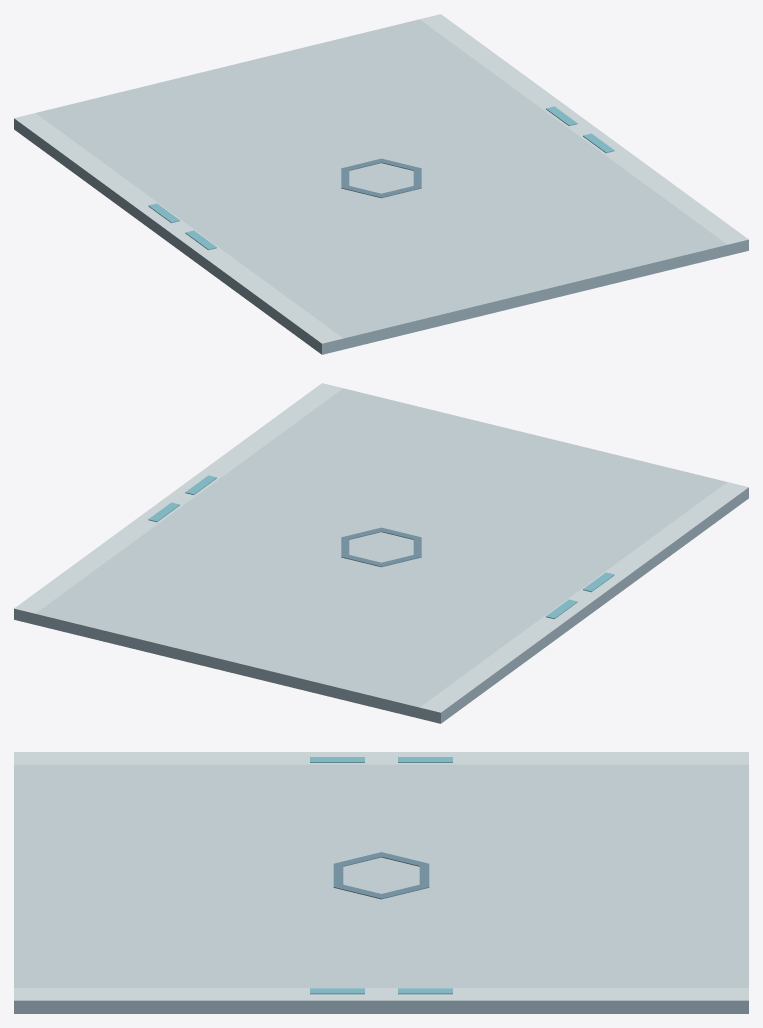
The model's file is campus_walk_straight_v01.glb.
3 renders of one model, top to bottom at view 1: azimuth 30°, elevation 25°; view 2: azimuth 150°, elevation 25°; view 3: azimuth 270°, elevation 25°, orthographic. The views are drawn at different scales.
Visible parts, largest first — view 1: campus_walk_straight; view 2: campus_walk_straight; view 3: campus_walk_straight.
Part boxes in pixels (x1,y1,x2,y2): campus_walk_straight: [14, 14, 748, 354]; campus_walk_straight: [14, 383, 748, 723]; campus_walk_straight: [14, 752, 748, 1013].
Bounding box in the file's own units: 3.2 × 0.087 × 4.
1 material, 1 textured.
